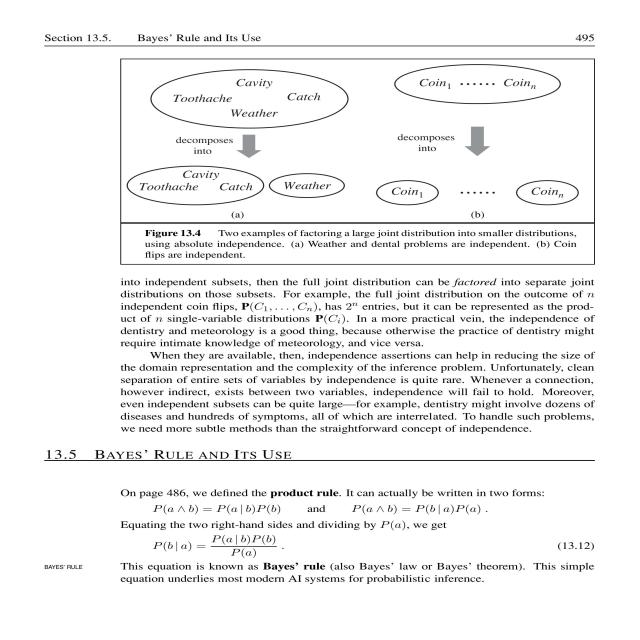diagram: (87, 51, 640, 266)
